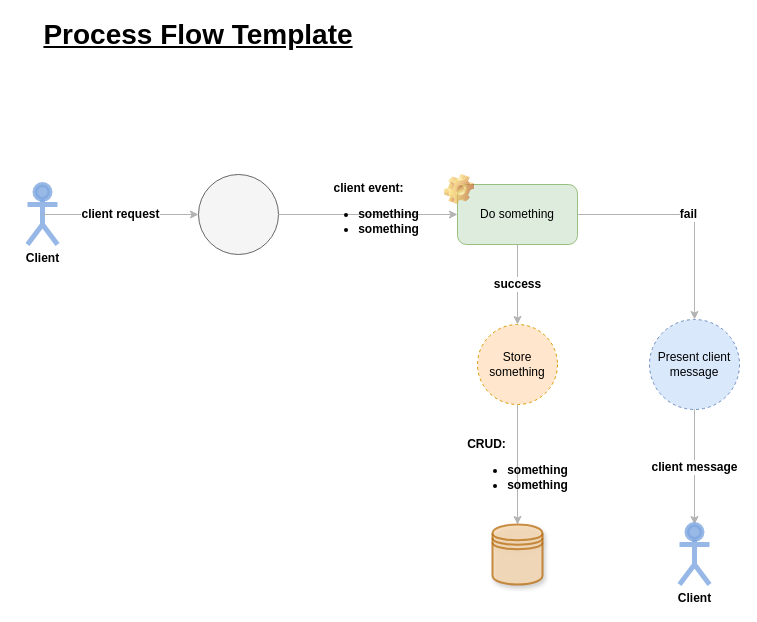
Some shapes in this 757 by 622 pixel diagram are drawn without their labels. Here are the shapes that lost their labels. From the top down, the centre of each, then its label:
the point at 238,214: Client requests something
the point at 518,555: Something storage
